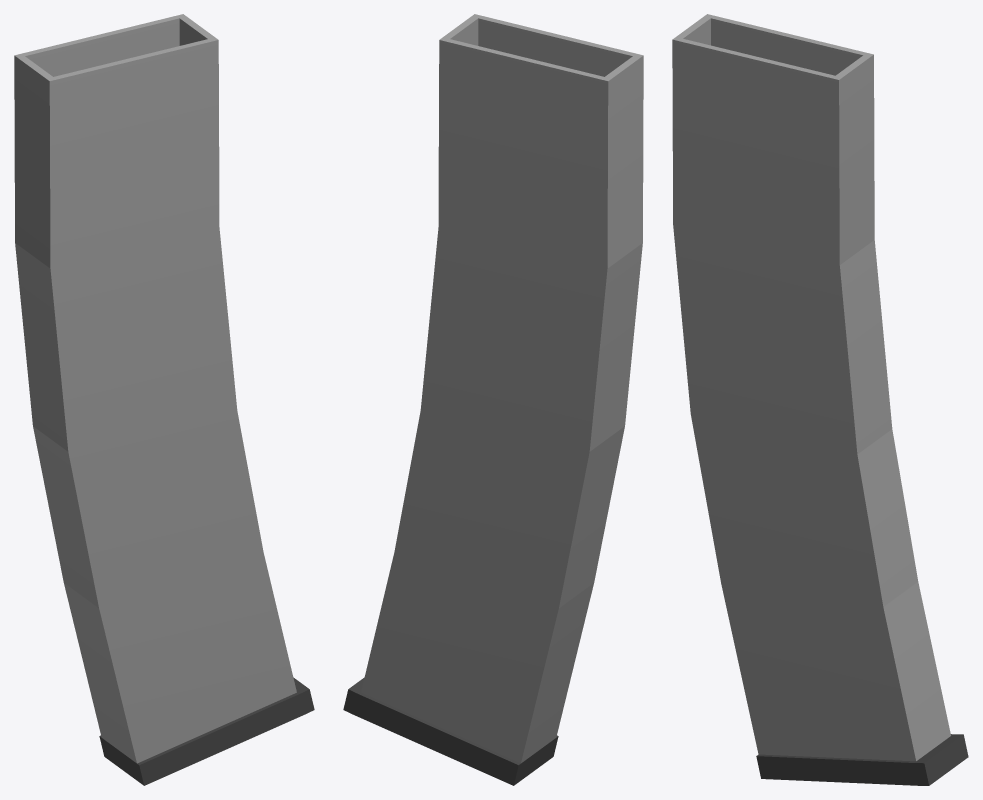
The model's file is SMG3_02_3.fbx.
The picture shows the model from 3 angles, left to right: view 1: azimuth 30°, elevation 25°; view 2: azimuth 150°, elevation 25°; view 3: azimuth 330°, elevation 25°; orthographic projection.
Visible parts, largest first — view 1: SMG3_02_3; view 2: SMG3_02_3; view 3: SMG3_02_3.
Part boxes in pixels (x1,y1,x2,y2): SMG3_02_3: (14,14,314,785); SMG3_02_3: (343,14,643,785); SMG3_02_3: (672,14,968,785).
Size of the model in its own units: 0.0784 by 0.207 by 0.0206.
